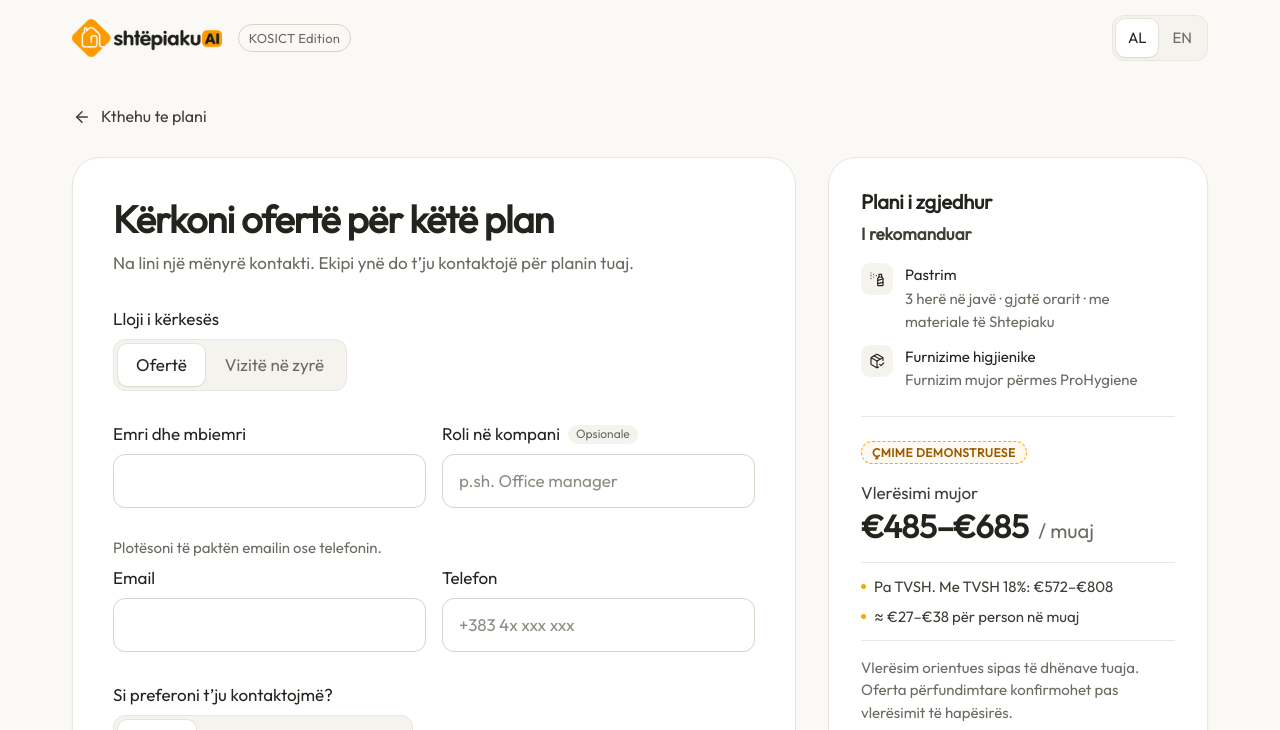
Test: contact submission › keeps the form after a failure and retries with the same idempotency key
Type "Arta Krasniqi" into the field labelled "Emri dhe mbiemri" at (270, 481), box [114,455,425,507]
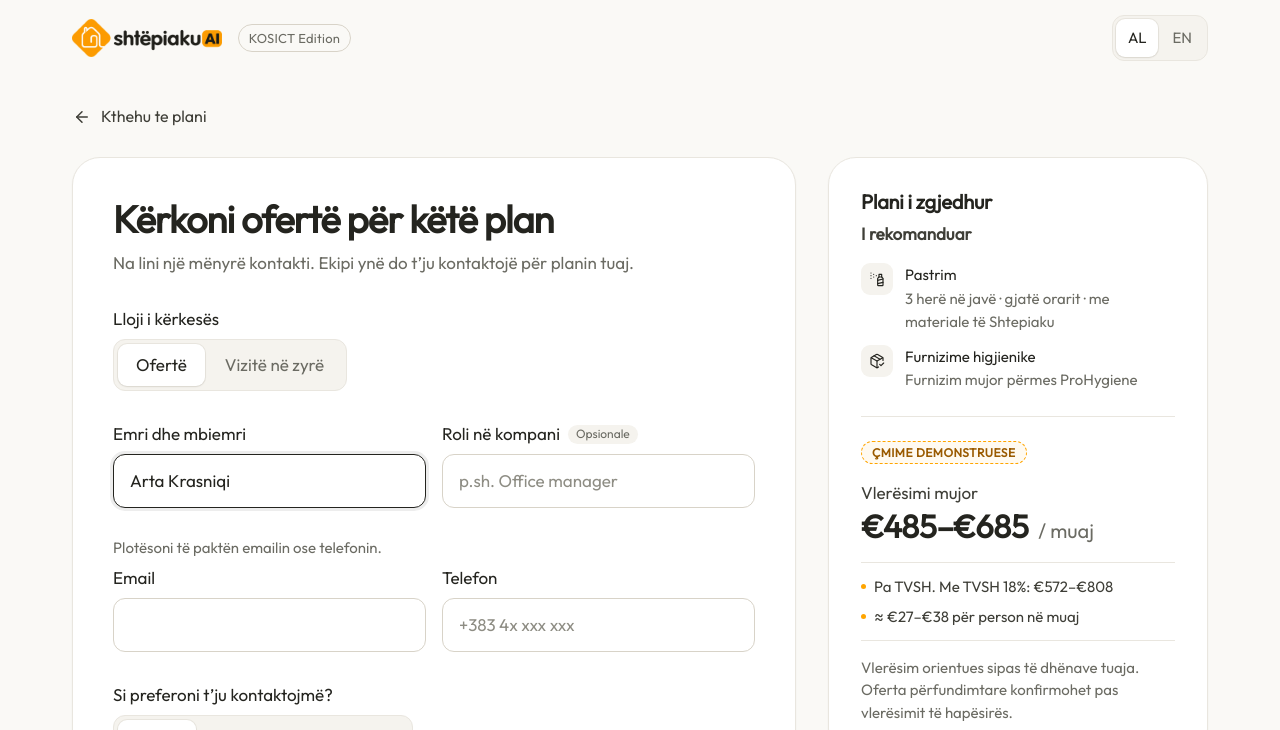
Type "arta@example.com" into the field labelled "Email" at (270, 625), box [114,599,425,651]
(page scrolled)
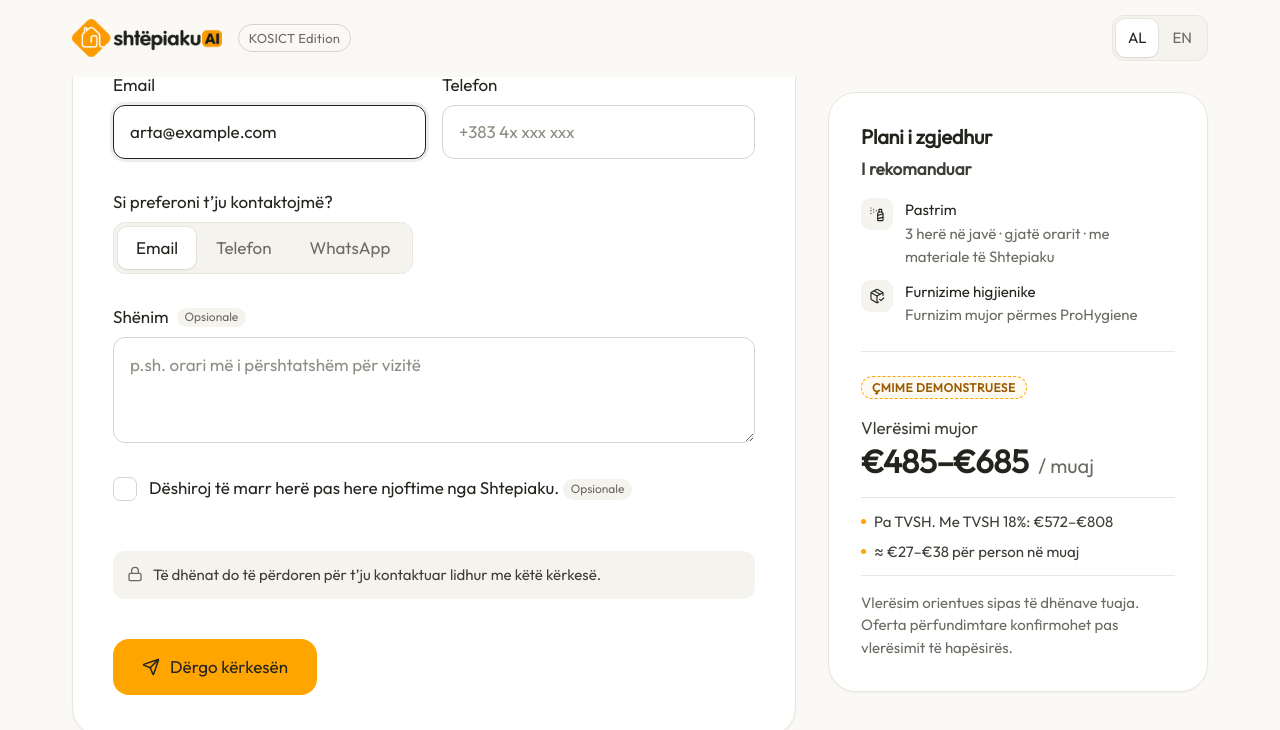
Click the button "Dërgo kërkesën" at (215, 667), box [113,639,317,695]
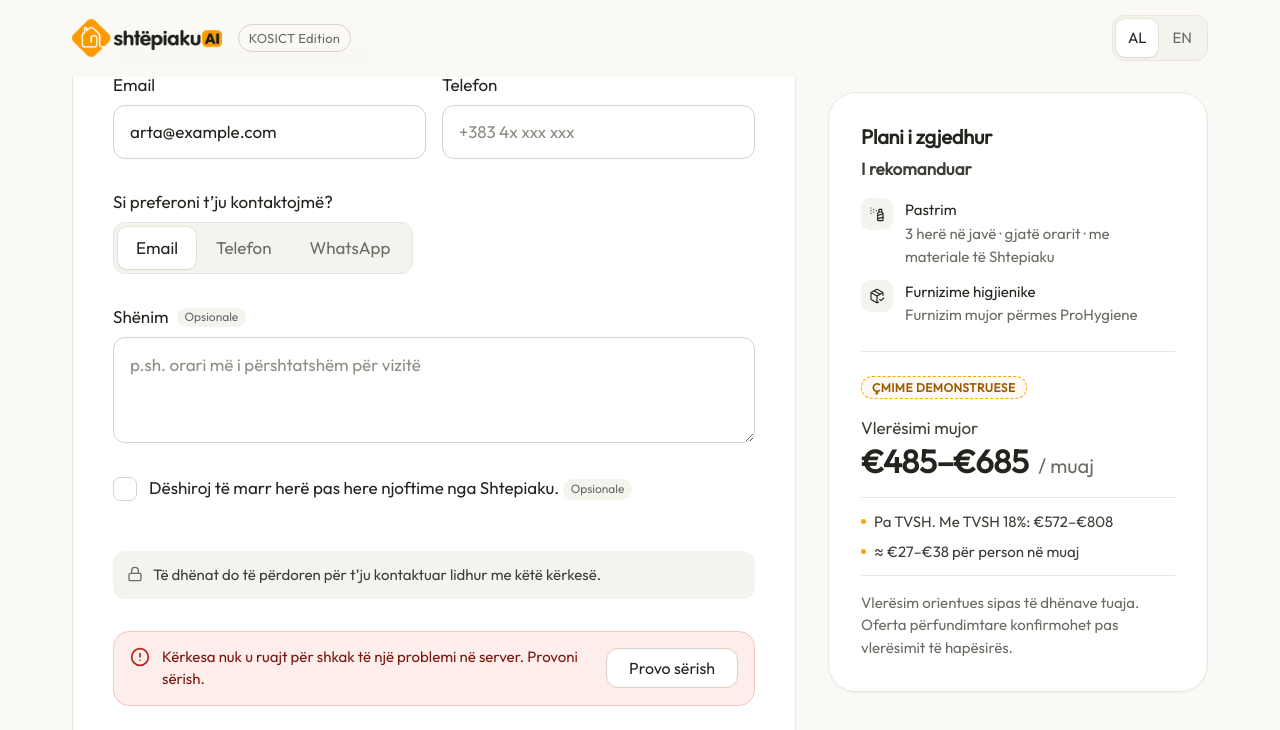
Expected: the text "Kërkesa juaj u pranua." is not shown
Expected: the text "nuk u ruajt" is shown, [162,647,578,688]
Click the button "Provo sërish" at (672, 668), box [606,648,738,688]
(page scrolled)
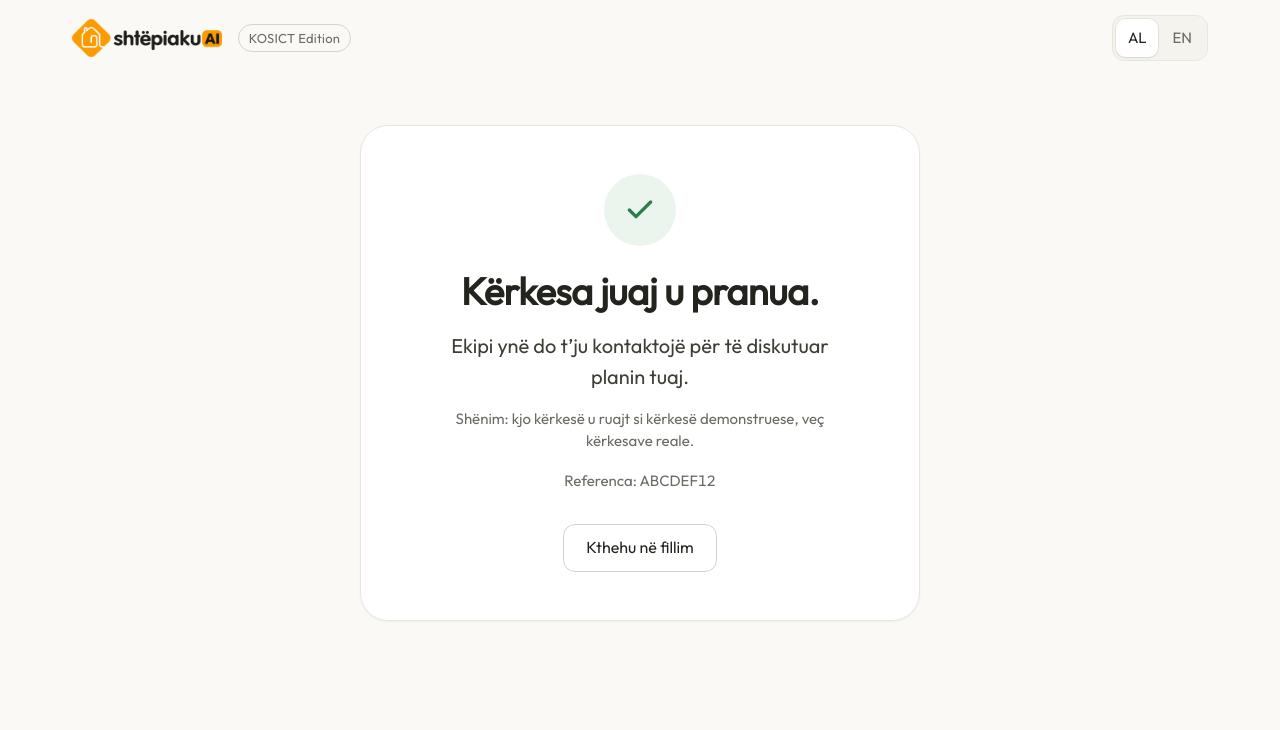
Expected: the heading "Kërkesa juaj u pranua." is shown, [461,270,819,314]
